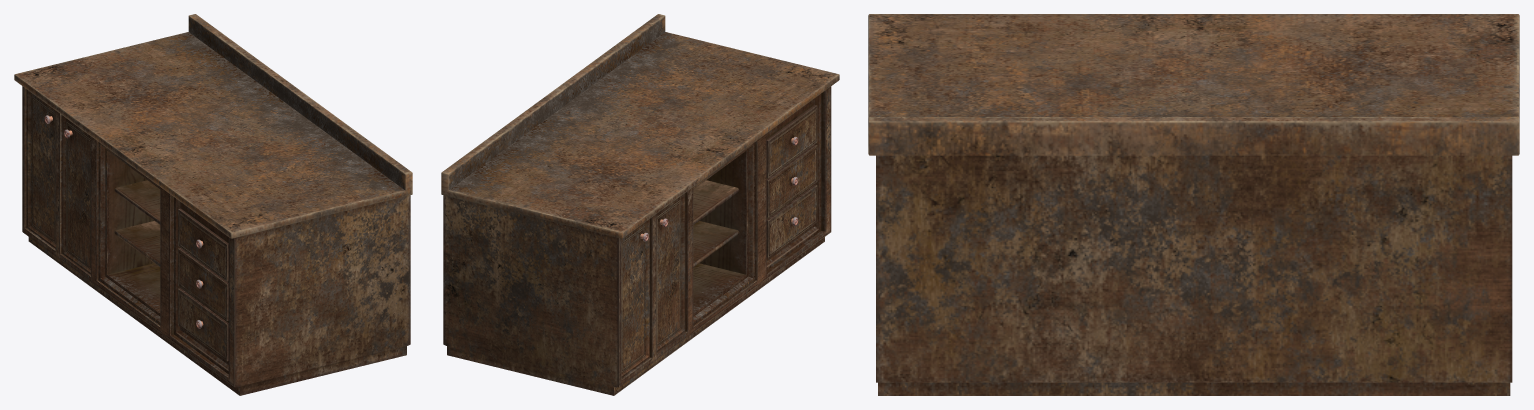
The model's file is old_kitchen_cabinets.glb.
3 renders of one model, left to right at view 1: azimuth 30°, elevation 25°; view 2: azimuth 150°, elevation 25°; view 3: azimuth 270°, elevation 25°, orthographic. The views are drawn at different scales.
Visible parts, largest first — view 1: Counter_low; view 2: Counter_low; view 3: Counter_low.
Part boxes in pixels (x1,y1,x2,y2): Counter_low: (14,14,412,395); Counter_low: (441,14,839,395); Counter_low: (868,14,1519,395).
Bounding box in the file's own units: 899 × 871 × 1859.
Materials: 3 (3 with a texture image).
